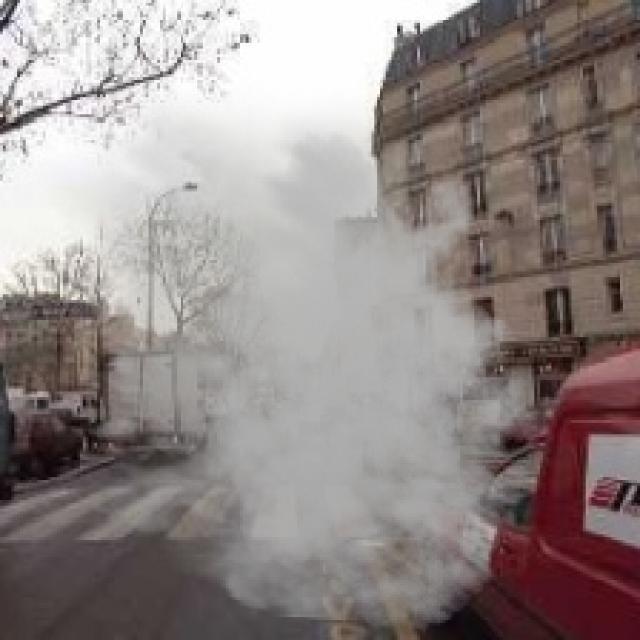Smoke: (28, 79, 563, 632)
